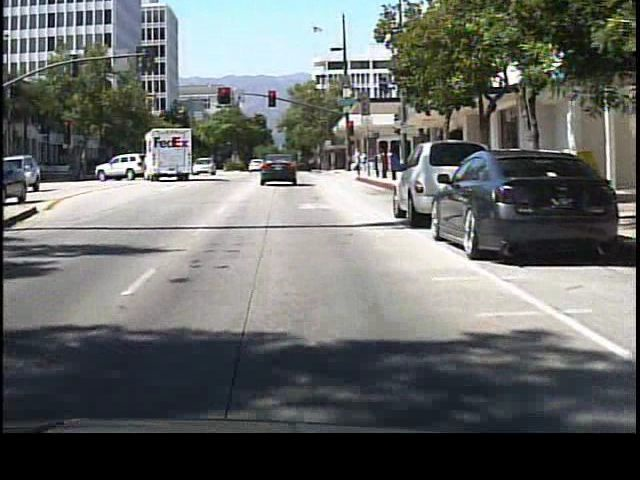person: (350, 147, 367, 182)
